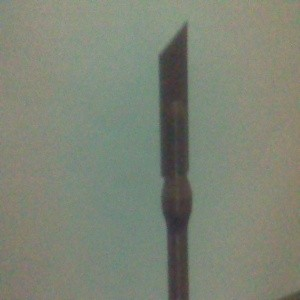cutter: (156, 20, 194, 300)
